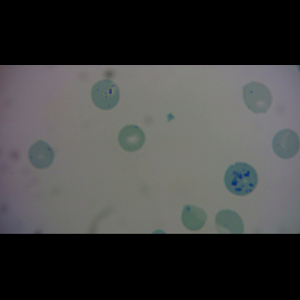aggregate reticulocyte: (223, 161, 259, 195)
erythrocyte: (90, 79, 121, 111), (270, 127, 300, 160), (179, 203, 210, 231)
punctate reticulocyte: (241, 80, 276, 115), (117, 123, 146, 152), (28, 139, 55, 170)
